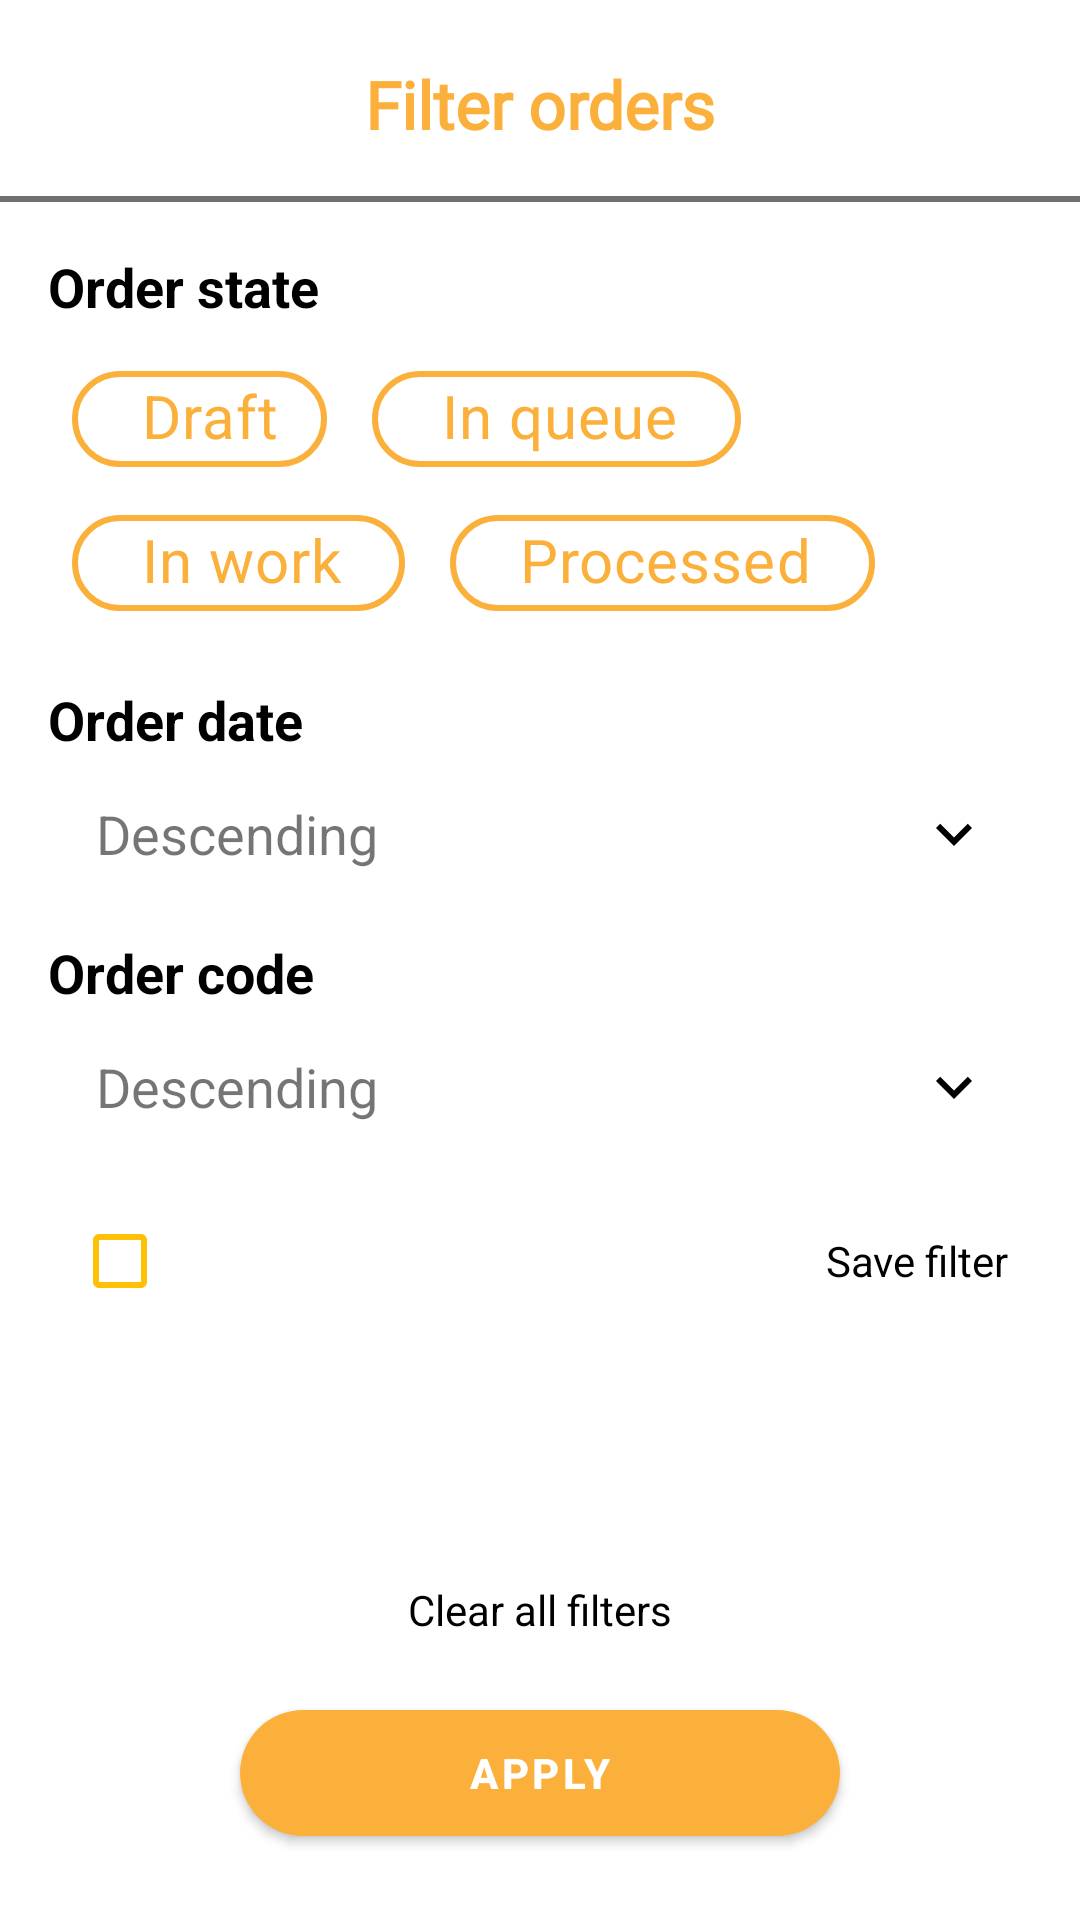

Icons on this 1080px×1920px Android screen, each with its box as rect(x1, y1, x2, y2):
expand more: rect(936, 824, 972, 846), rect(936, 1077, 972, 1099)
